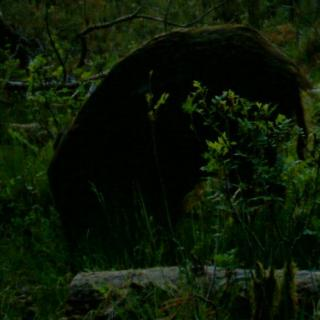Pig: (38, 14, 316, 281)
